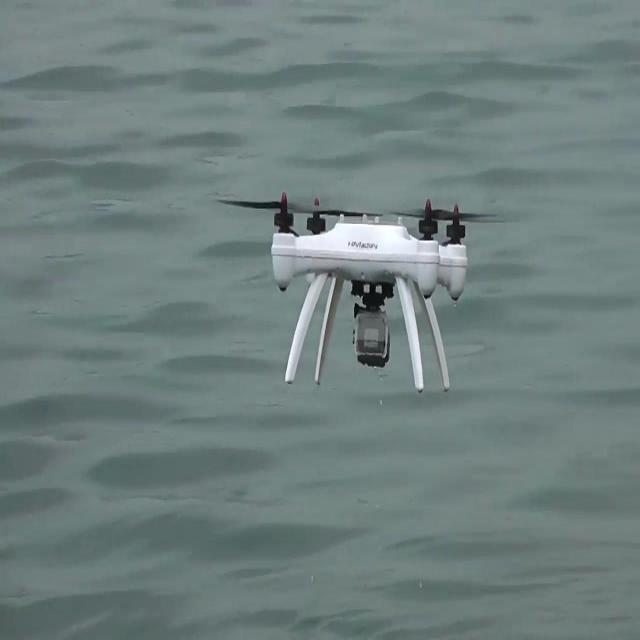UAV: (216, 192, 504, 393)
